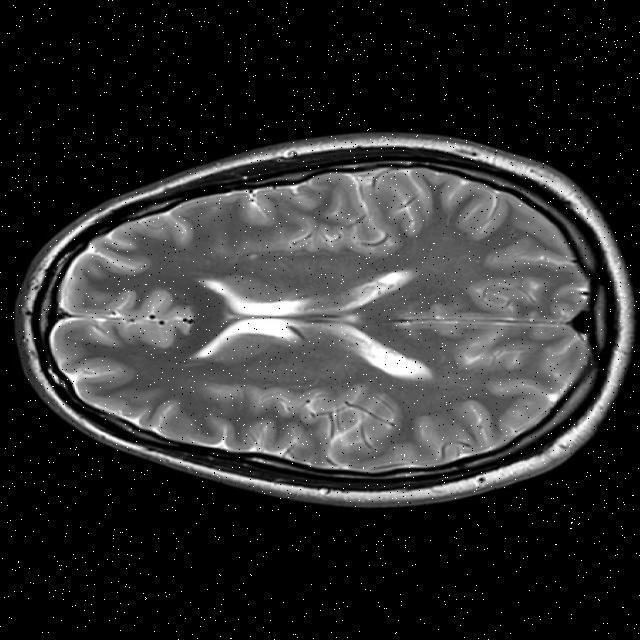No_Tumor: (16, 133, 634, 505)
